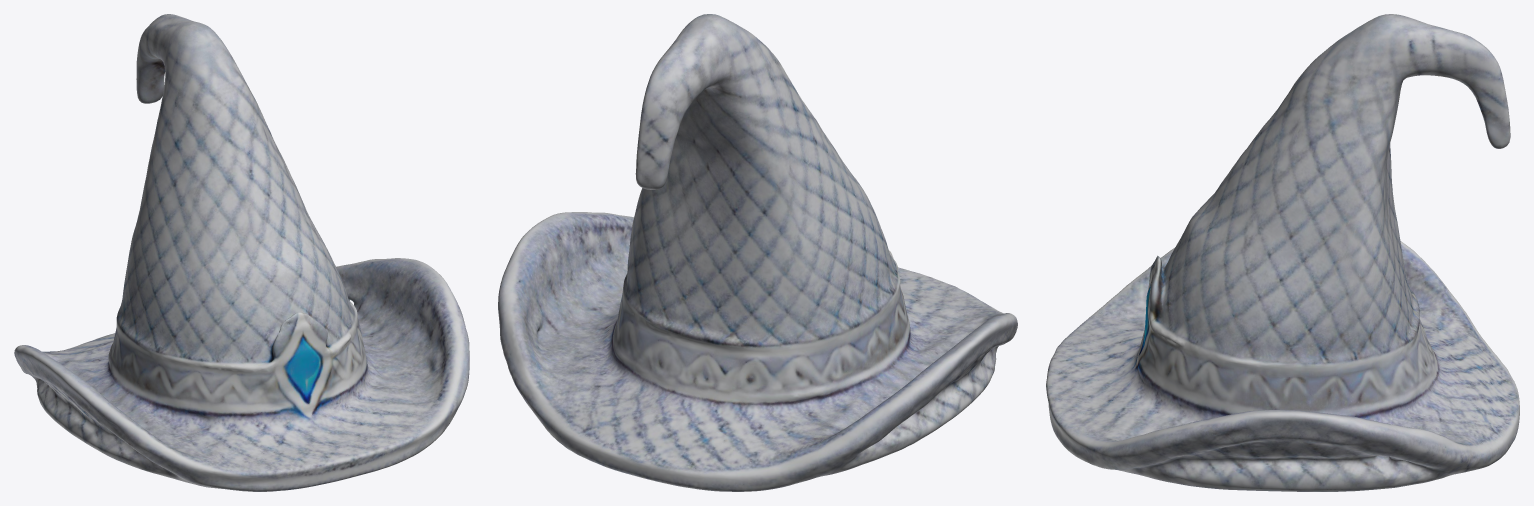
Rendered from magicienHat.glb.
The picture shows the model from 3 angles, left to right: view 1: azimuth 30°, elevation 25°; view 2: azimuth 150°, elevation 25°; view 3: azimuth 270°, elevation 25°; orthographic projection. The views are drawn at different scales.
Visible parts, largest first — view 1: high_poly; view 2: high_poly; view 3: high_poly.
Part boxes in pixels (box(x1,y1,x2,y2)): high_poly: box(14, 14, 469, 491); high_poly: box(498, 14, 1017, 491); high_poly: box(1046, 14, 1519, 491).
Bounding box in the file's own units: 1 × 0.8799 × 0.9323.
1 material, 1 textured.
